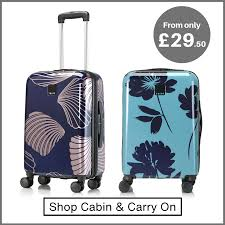suitcase: (19, 12, 107, 194), (119, 69, 203, 192)
